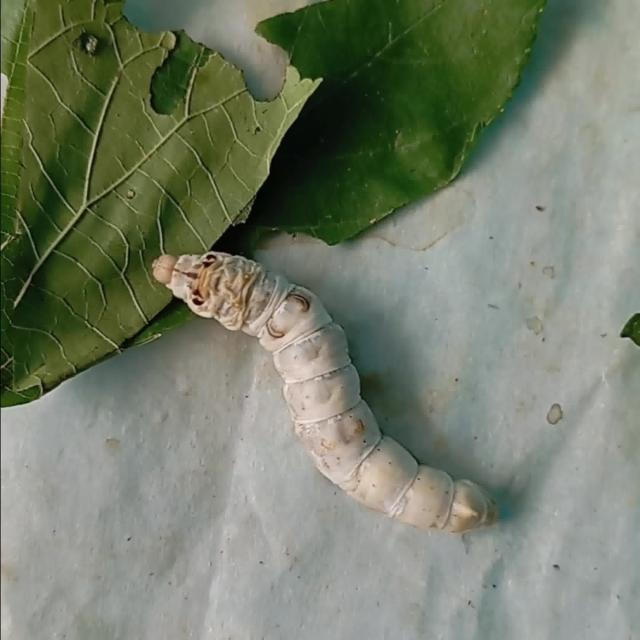Grasserie: (108, 214, 520, 573)
